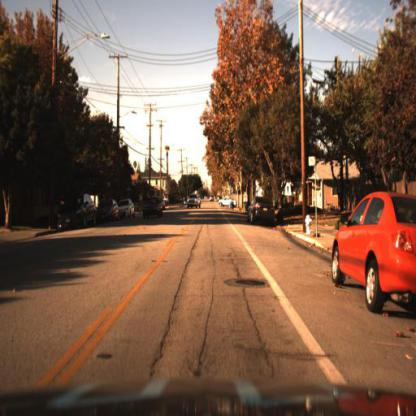car: (331, 190, 415, 318), (54, 189, 96, 235), (247, 194, 276, 224), (139, 194, 164, 224), (94, 198, 119, 224), (184, 192, 203, 214), (218, 196, 236, 210)
